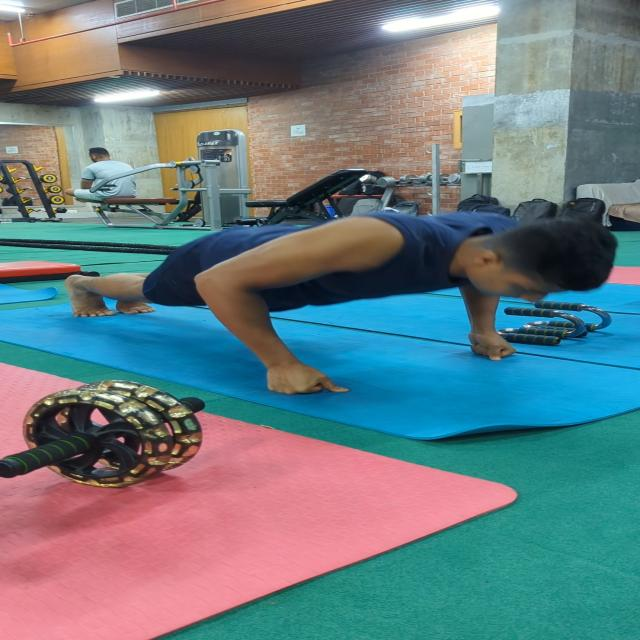Normal_PushUps: (30, 198, 619, 402)
